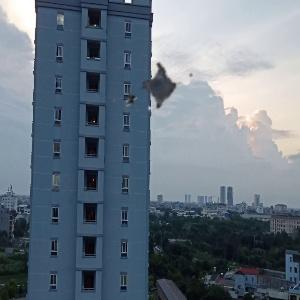drone: (107, 25, 212, 130)
